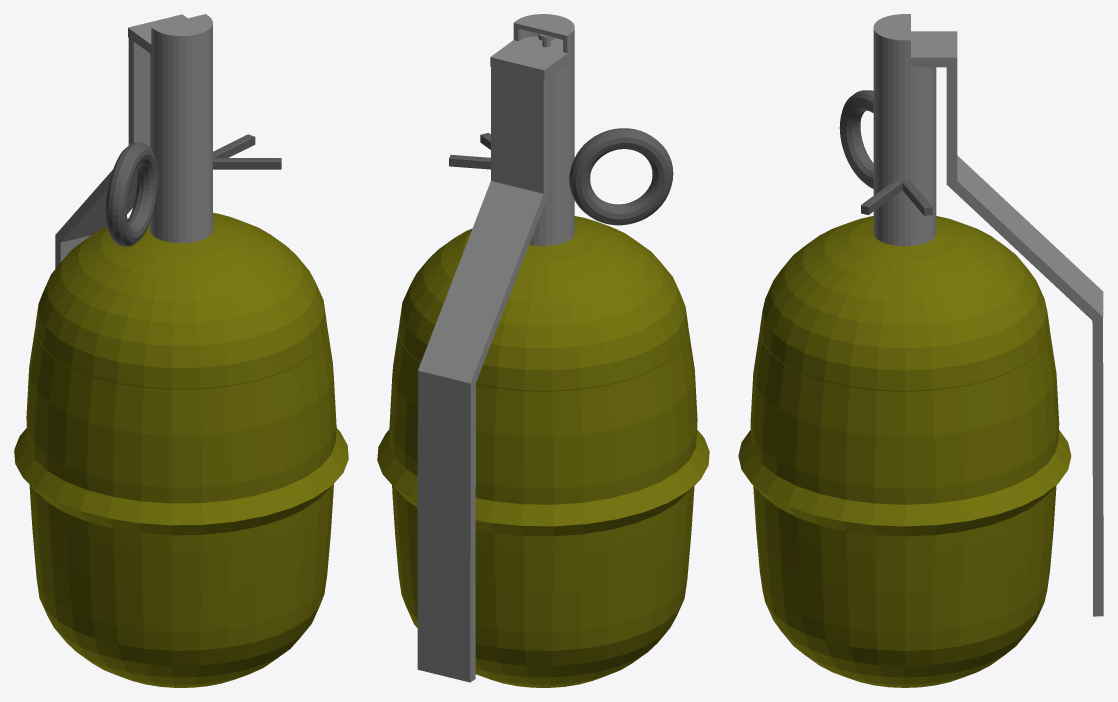
The model's file is AirsoftGrenadeRGD-5.fbx.
The picture shows the model from 3 angles, left to right: view 1: azimuth 30°, elevation 25°; view 2: azimuth 150°, elevation 25°; view 3: azimuth 270°, elevation 25°; orthographic projection.
Parts seen in each view (by area): view 1: Base, Ring, Lever; view 2: Base, Lever, Ring; view 3: Base, Lever, Ring.
Boxes of the visible parts, box(x1,y1,x2,y2) form: Base: box(14, 14, 348, 687); Ring: box(106, 134, 281, 246); Lever: box(55, 14, 187, 268); Base: box(377, 14, 709, 687); Lever: box(417, 40, 567, 682); Ring: box(449, 128, 673, 225); Base: box(738, 14, 1071, 687); Lever: box(910, 31, 1103, 616); Ring: box(839, 90, 932, 215).
Size of the model in its own units: 244 by 520 by 268.
